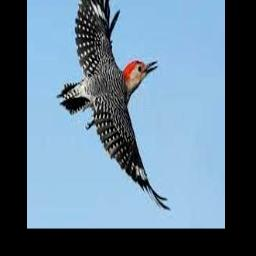Woodpecker: (56, 0, 172, 211)
